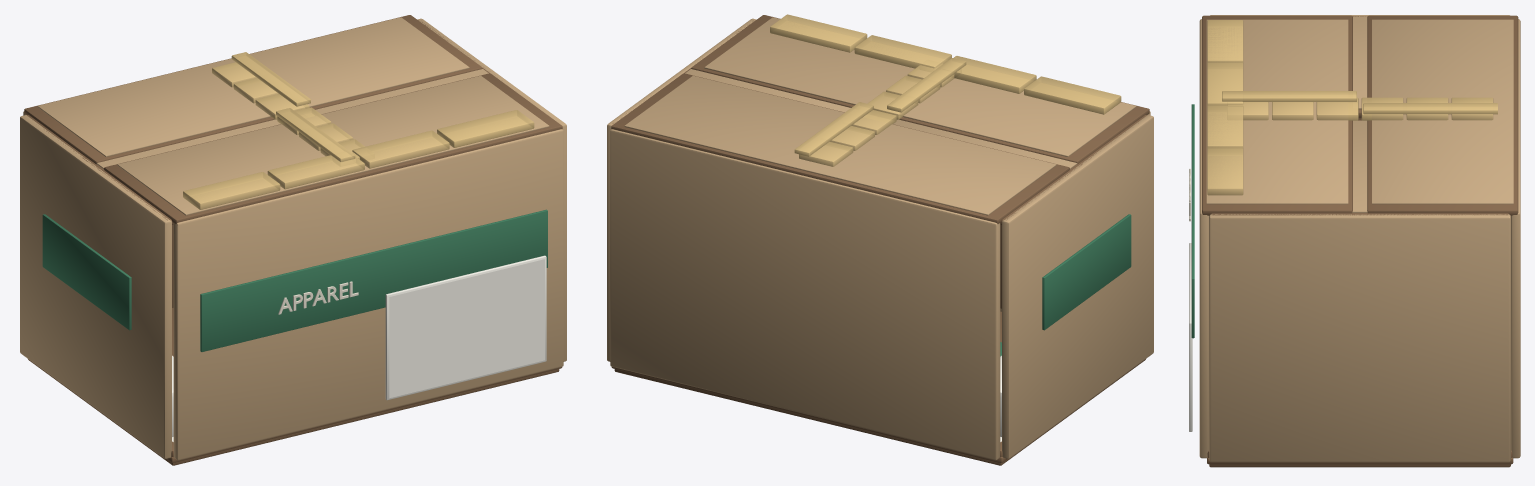
Rendered from delivery_apparel_box.glb.
3 views of the same model, side by side, from view 1: azimuth 30°, elevation 25°; view 2: azimuth 150°, elevation 25°; view 3: azimuth 270°, elevation 25° (orthographic). The views are drawn at different scales.
Parts seen in each view (by area): view 1: BOX_FRONT, BOX_LEFT, FLAP_TOP_BACK_FACE, FLAP_TOP_FRONT_FACE, LABEL_MAIN, LABEL_DYNAMIC, SIDE_APPAREL_BAND, FLAP_TOP_FRONT, FLAP_TOP_BACK, TAPE_CENTER, TAPE_SIDE_LEFT, TAPE_SIDE_RIGHT (+12 smaller); view 2: BOX_BACK, BOX_LEFT, FLAP_TOP_BACK_FACE, FLAP_TOP_FRONT_FACE, SIDE_APPAREL_BAND, FLAP_TOP_BACK, FLAP_TOP_FRONT, TAPE_CENTER, TAPE_SIDE_LEFT, TAPE_SIDE_RIGHT, TAPE_CROSS_RIGHT_INNER, TAPE_CROSS_LEFT_INNER (+8 smaller); view 3: BOX_RIGHT, FLAP_TOP_BACK_FACE, FLAP_TOP_FRONT_FACE, FLAP_TOP_BACK, FLAP_TOP_FRONT, BOX_FRONT, BOX_BACK, TAPE_CENTER, TAPE_SIDE_RIGHT, TAPE_CROSS_RIGHT_INNER, TAPE_PEELED_RIGHT, TAPE_SIDE_LEFT (+11 smaller).
Boxes of the visible parts, x1,y1,x2,y2 form: BOX_FRONT: (173,129,563,460); BOX_LEFT: (20,115,171,458); FLAP_TOP_BACK_FACE: (37,17,469,156); FLAP_TOP_FRONT_FACE: (117,75,549,215); LABEL_MAIN: (200,209,547,351); LABEL_DYNAMIC: (389,259,544,398); SIDE_APPAREL_BAND: (42,214,131,330); FLAP_TOP_FRONT: (104,73,562,223); FLAP_TOP_BACK: (24,15,482,164); TAPE_CENTER: (233,78,353,150); TAPE_SIDE_LEFT: (183,172,280,209); TAPE_SIDE_RIGHT: (437,110,534,147); BOX_BACK: (610,129,1000,460); BOX_LEFT: (1002,115,1153,458); FLAP_TOP_BACK_FACE: (624,75,1056,215); FLAP_TOP_FRONT_FACE: (704,17,1136,156); SIDE_APPAREL_BAND: (1042,214,1131,330); FLAP_TOP_BACK: (611,73,1069,223); FLAP_TOP_FRONT: (691,15,1149,164); TAPE_CENTER: (830,75,940,150); TAPE_SIDE_LEFT: (1024,76,1121,114); TAPE_SIDE_RIGHT: (770,14,867,52); TAPE_CROSS_RIGHT_INNER: (854,35,951,71); TAPE_CROSS_LEFT_INNER: (948,56,1036,93); BOX_RIGHT: (1209,214,1510,462); FLAP_TOP_BACK_FACE: (1372,19,1513,204); FLAP_TOP_FRONT_FACE: (1206,19,1348,204); FLAP_TOP_BACK: (1367,15,1518,215); FLAP_TOP_FRONT: (1202,15,1352,215); BOX_FRONT: (1199,19,1209,458); BOX_BACK: (1511,19,1520,458); TAPE_CENTER: (1272,97,1448,120); TAPE_SIDE_RIGHT: (1207,148,1243,195); TAPE_CROSS_RIGHT_INNER: (1207,105,1243,148); TAPE_PEELED_RIGHT: (1363,103,1497,114); TAPE_SIDE_LEFT: (1207,20,1243,63).
Size of what is drawn, in the model's own units: 0.609 by 0.371 by 0.414.
